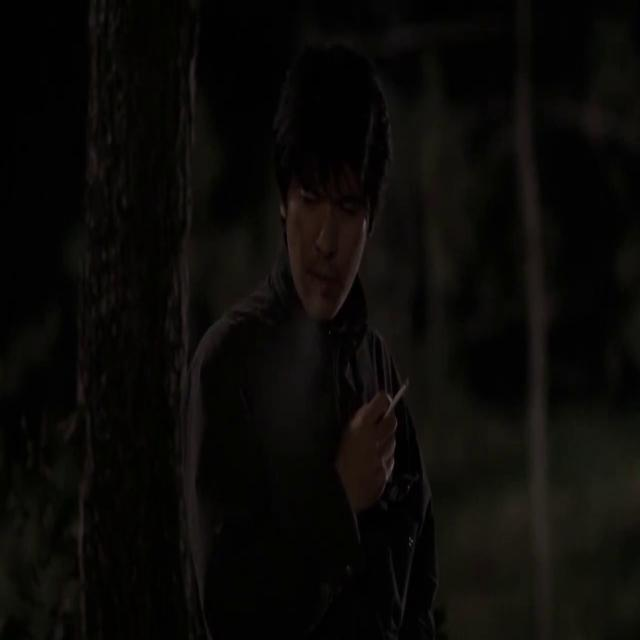Smooking: (386, 354, 415, 424)
